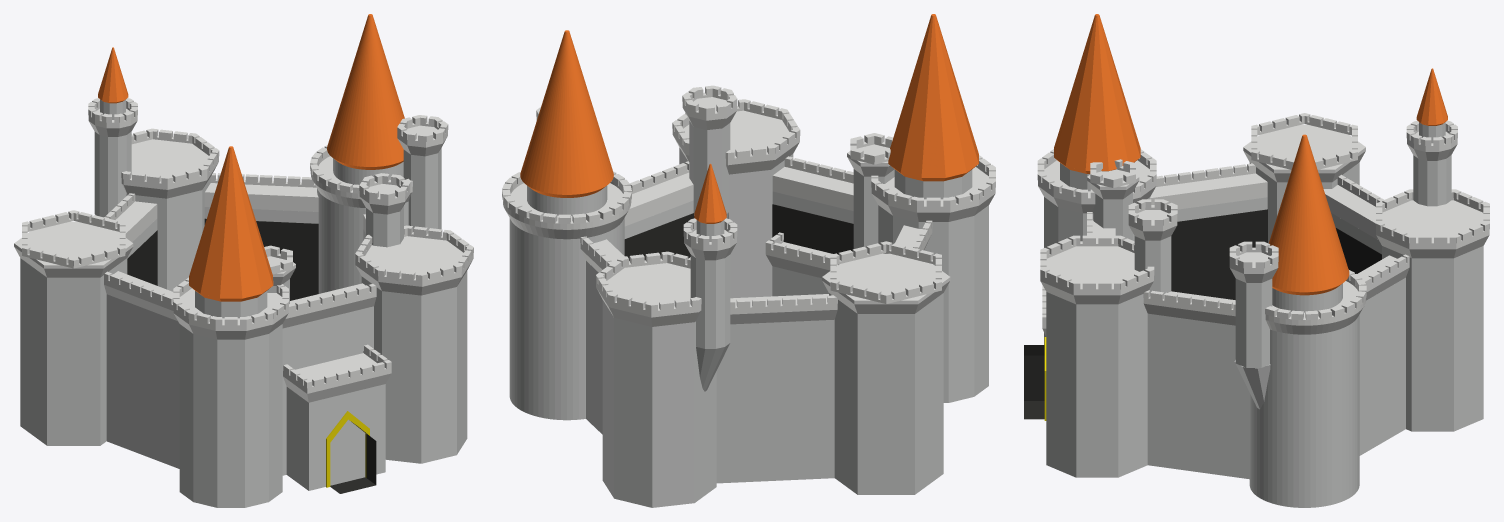
File: openscad_medieval-fortress-generator.glb
The picture shows the model from 3 angles, left to right: view 1: azimuth 30°, elevation 25°; view 2: azimuth 150°, elevation 25°; view 3: azimuth 270°, elevation 25°; orthographic projection. The views are drawn at different scales.
Visible parts, largest first — view 1: object; view 2: object; view 3: object.
Part boxes in pixels (bbox=[...]): object: bbox=[14, 14, 473, 507]; object: bbox=[502, 14, 995, 507]; object: bbox=[1024, 14, 1489, 507].
Size of the model in its own units: 99.7 by 80.58 by 97.39.
